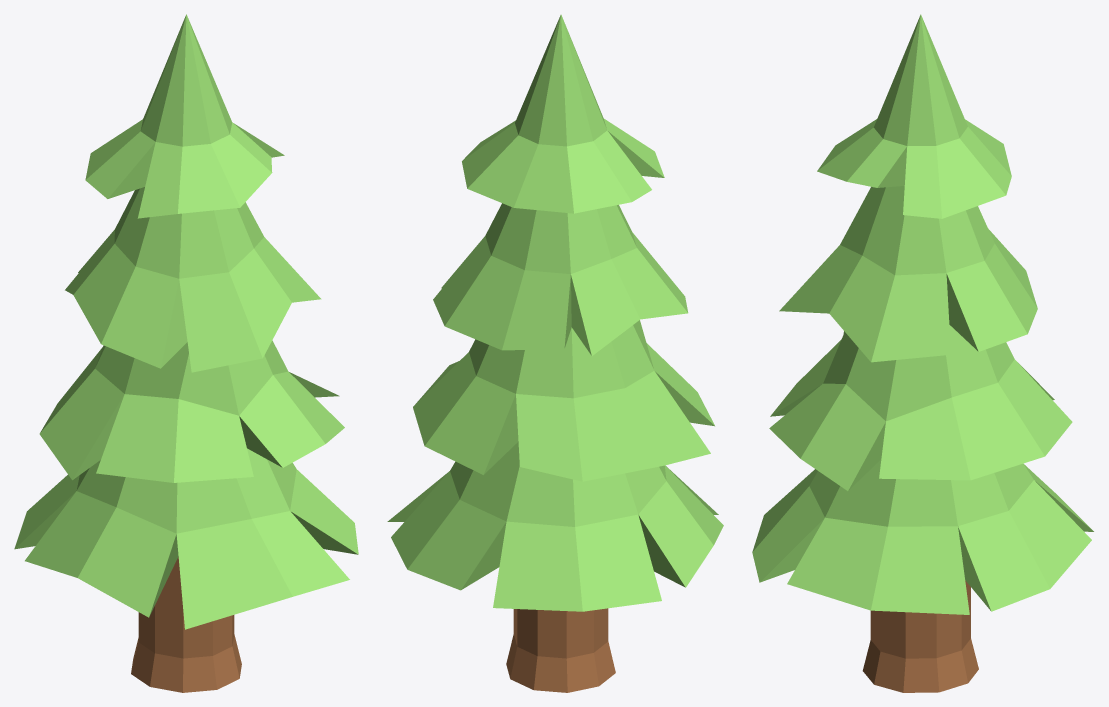
The model's file is Tree2.1.fbx.
The picture shows the model from 3 angles, left to right: view 1: azimuth 30°, elevation 25°; view 2: azimuth 150°, elevation 25°; view 3: azimuth 270°, elevation 25°; orthographic projection.
Visible parts, largest first — view 1: Tree2.1; view 2: Tree2.1; view 3: Tree2.1.
Boxes of the visible parts, x1=… form: Tree2.1: x1=14, y1=14, x2=358, y2=692; Tree2.1: x1=387, y1=14, x2=723, y2=692; Tree2.1: x1=752, y1=14, x2=1093, y2=692.
Size of the model in its own units: 358 by 765 by 362.
